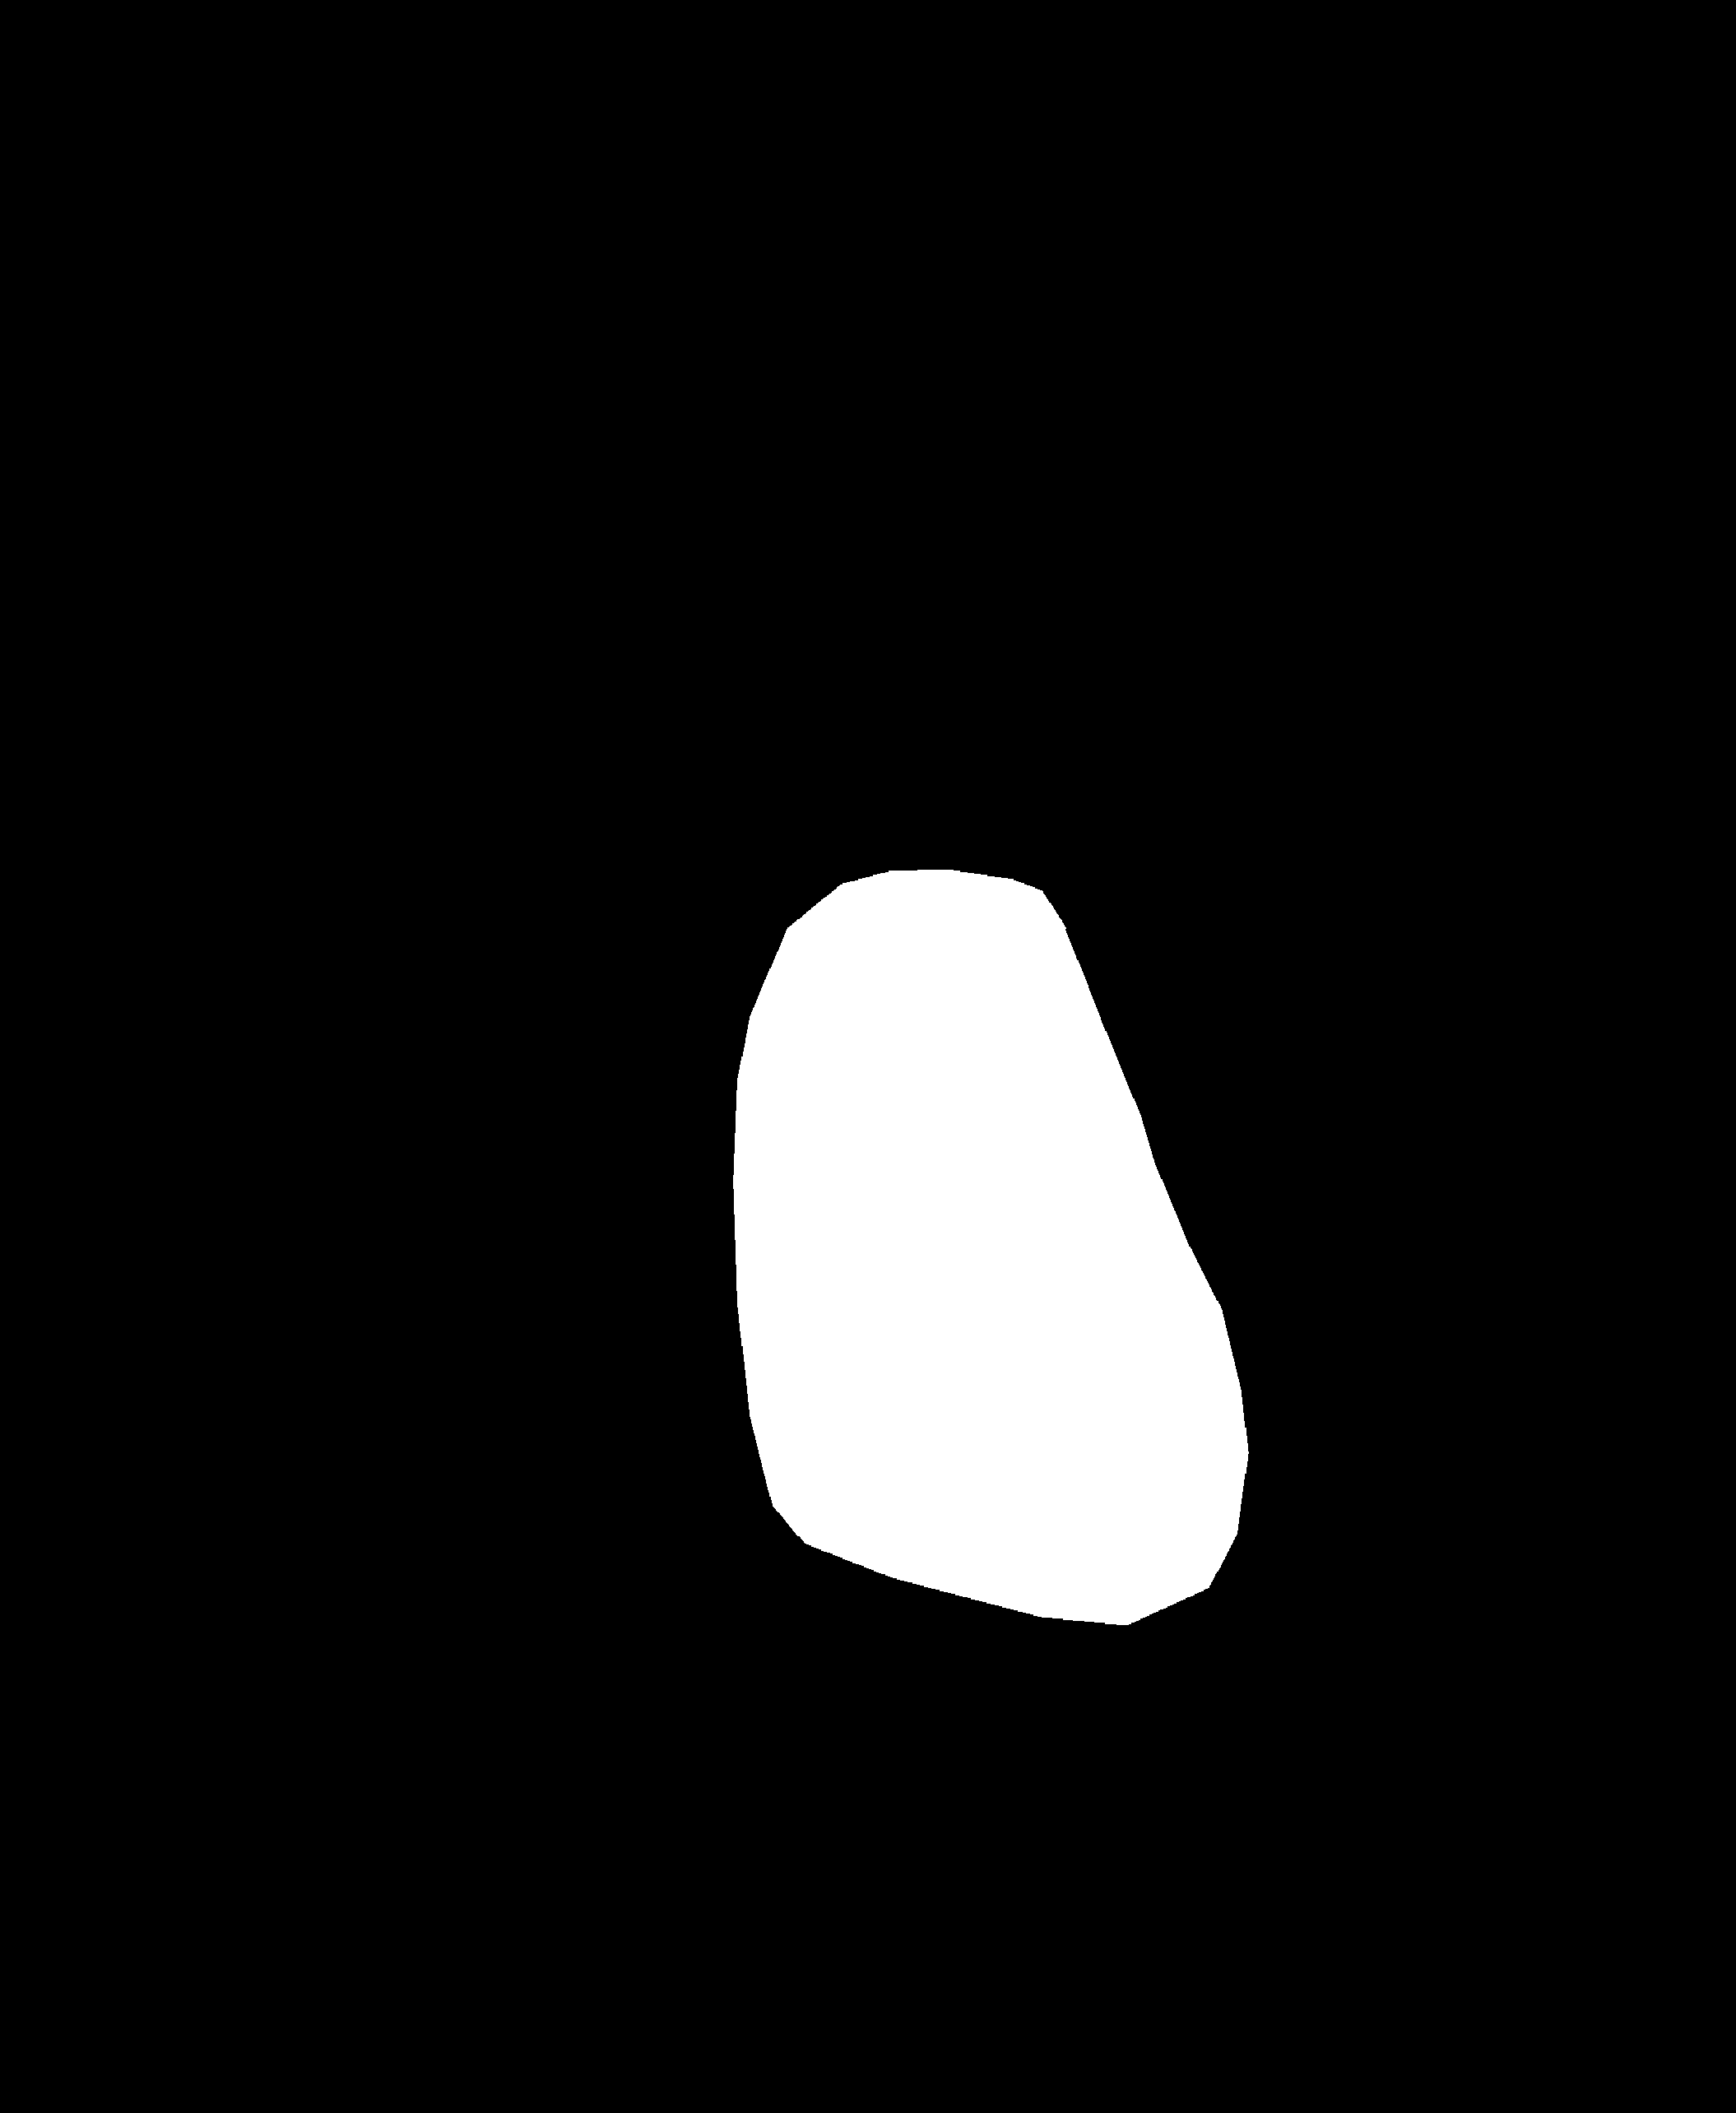heart: (732, 1042, 1245, 1625)
left_lung: (156, 286, 804, 1913)
right_lung: (971, 291, 1557, 1929)
